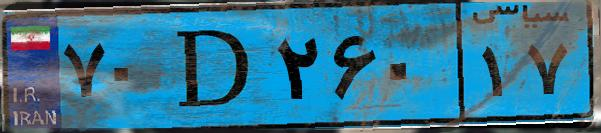0: (385, 28, 445, 110), (110, 28, 158, 98)
1: (475, 38, 525, 113)
2: (270, 28, 330, 110)
6: (330, 28, 385, 110)
7: (57, 26, 110, 100), (525, 38, 570, 115)
D: (158, 12, 270, 120)
